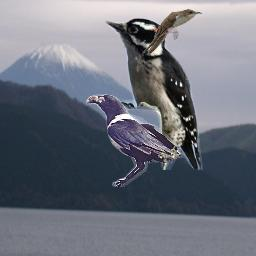Crow: (86, 94, 185, 187)
Cuckoo: (142, 9, 202, 54)
Woodpecker: (104, 17, 203, 170)
